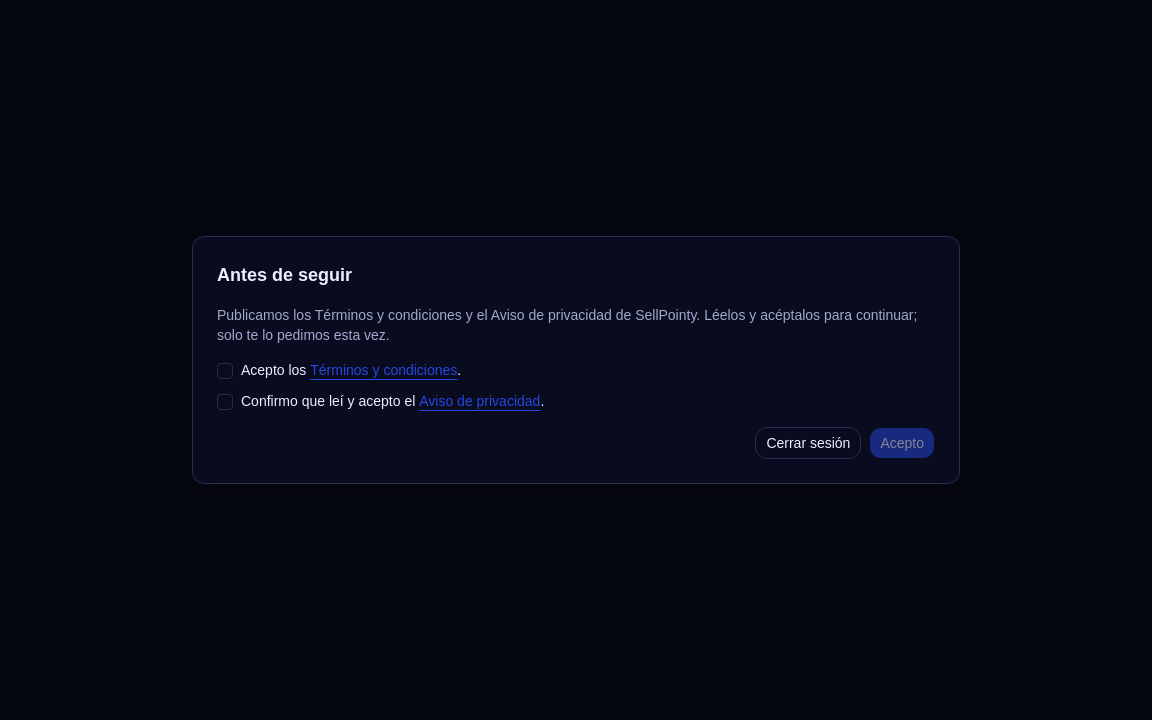
Test: TermsGate › encendido › «Acepto» nace apagado y solo se prende con las DOS casillas marcadas
Expected: the button "Acepto" is disabled, 869,427 -> 935,459
Step 1. Click the checkbox next to "Acepto los" → x=225, y=371, box 217,363 -> 233,379
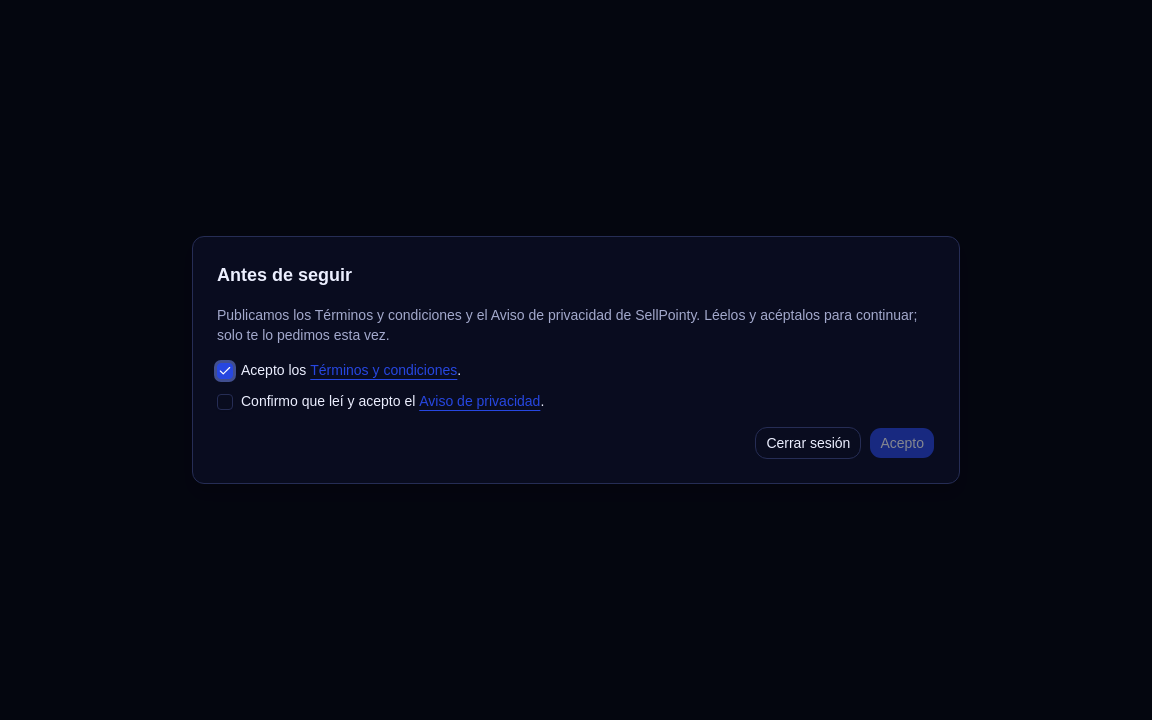
Expected: the button "Acepto" is disabled, 869,427 -> 935,459
Step 2. Click the checkbox next to "Confirmo que leí y acepto el" → x=225, y=402, box 217,394 -> 233,410
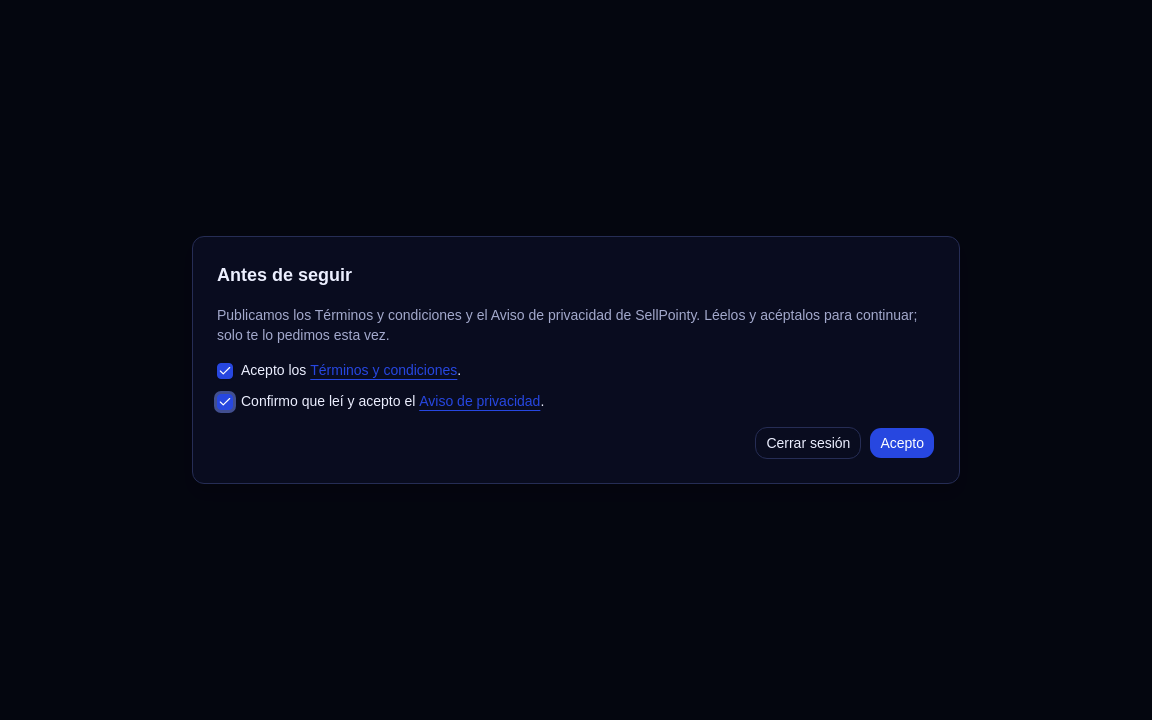
Expected: the button "Acepto" is enabled, 869,427 -> 935,459
Step 3. Click the checkbox next to "Acepto los" → x=225, y=371, box 217,363 -> 233,379
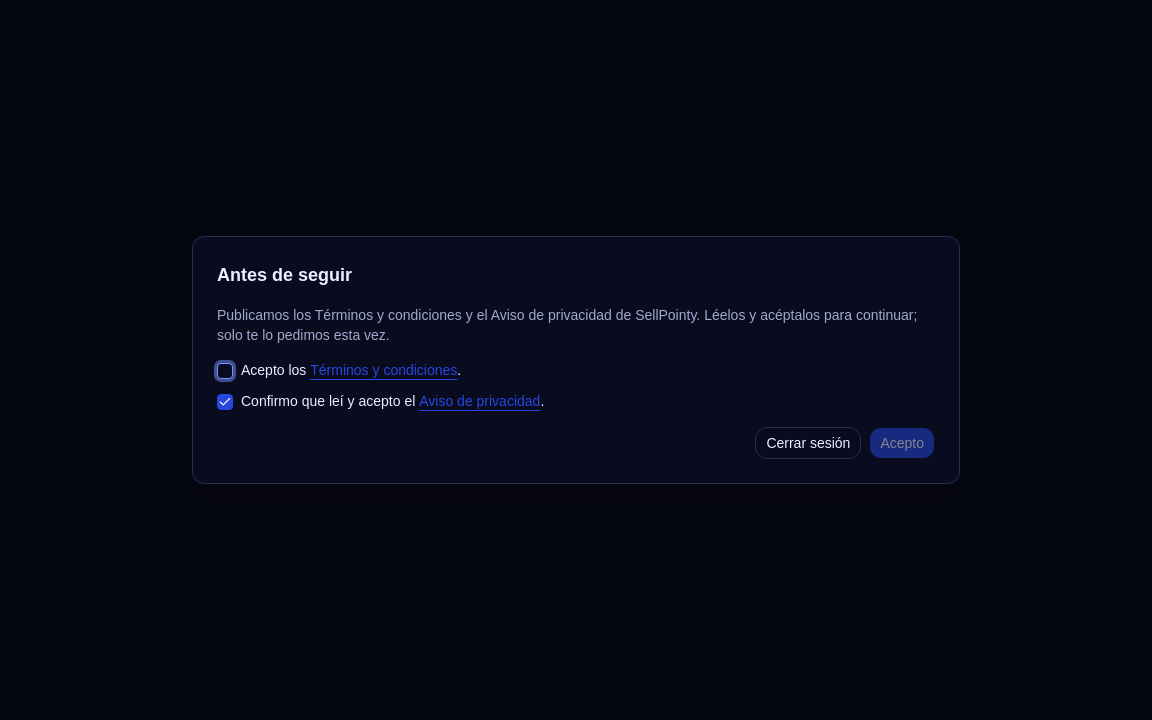
Expected: the button "Acepto" is disabled, 869,427 -> 935,459
